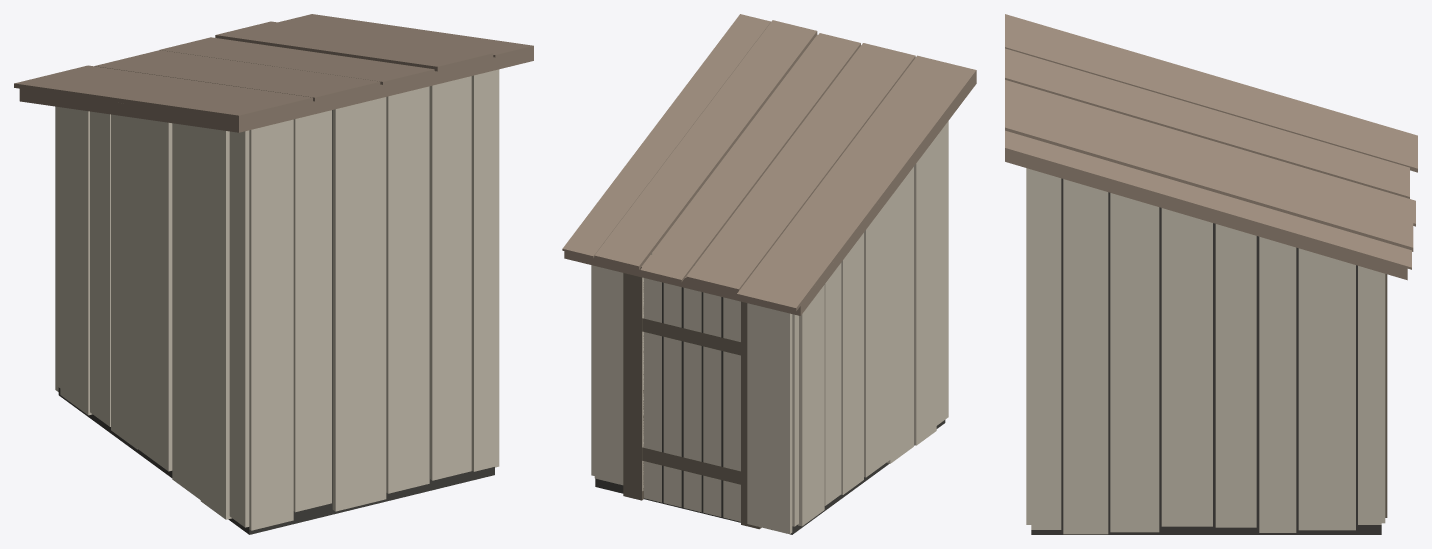
File: recon_1835_blk_lake_clark_a3_04__inferred_1835.glb
3 renders of one model, left to right at view 1: azimuth 30°, elevation 25°; view 2: azimuth 150°, elevation 25°; view 3: azimuth 270°, elevation 25°, orthographic. The views are drawn at different scales.
Visible parts, largest first — view 1: recon_1835_blk_lake_clark_a3_04__inferred_1835; view 2: recon_1835_blk_lake_clark_a3_04__inferred_1835; view 3: recon_1835_blk_lake_clark_a3_04__inferred_1835.
Part boxes in pixels (box(x1,y1,x2,y2)): recon_1835_blk_lake_clark_a3_04__inferred_1835: box(14, 14, 533, 534); recon_1835_blk_lake_clark_a3_04__inferred_1835: box(562, 14, 976, 534); recon_1835_blk_lake_clark_a3_04__inferred_1835: box(1005, 14, 1417, 534).
Bounding box in the file's own units: 2.05 × 2.9 × 2.71.
